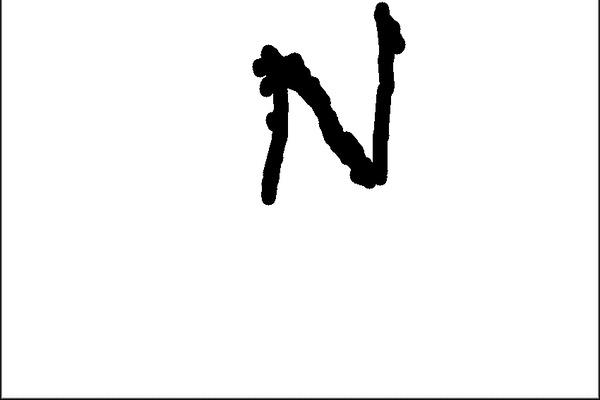N: (247, 0, 407, 211)
